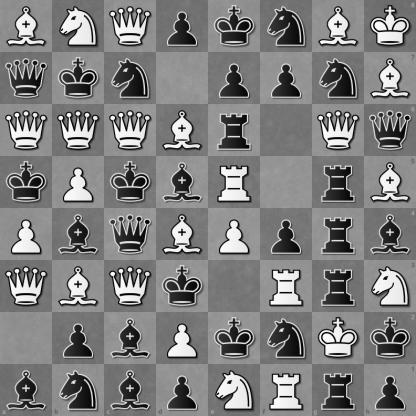B: (364, 156, 416, 209), (364, 52, 416, 104), (1, 1, 52, 52), (53, 261, 104, 312), (157, 105, 208, 156), (157, 209, 208, 260), (313, 1, 364, 52)
K: (364, 0, 416, 52), (313, 313, 364, 364)
N: (364, 260, 416, 312), (209, 364, 260, 416), (53, 1, 104, 52)
P: (1, 209, 52, 260), (53, 157, 104, 208), (157, 313, 208, 364), (209, 209, 260, 260)
Q: (1, 105, 52, 156), (1, 261, 52, 312), (53, 105, 104, 156), (105, 1, 156, 52), (105, 105, 156, 156), (105, 261, 156, 312), (313, 105, 364, 156)
R: (260, 364, 312, 416), (209, 157, 260, 208), (261, 261, 312, 312)
b: (0, 364, 52, 416), (104, 364, 156, 416), (364, 209, 416, 260), (53, 209, 104, 260), (105, 313, 156, 364), (157, 157, 208, 208)
board: (0, 0, 415, 415)
k: (364, 312, 416, 364), (1, 157, 52, 208), (53, 53, 104, 104), (105, 157, 156, 208), (157, 261, 208, 312), (209, 1, 260, 52), (209, 313, 260, 364)
n: (52, 364, 104, 416), (105, 53, 156, 104), (261, 1, 312, 52), (261, 313, 312, 364), (313, 53, 364, 104)
p: (156, 364, 209, 416), (364, 364, 416, 416), (53, 313, 104, 364), (157, 1, 208, 52), (209, 53, 260, 104), (261, 53, 312, 104), (261, 209, 312, 260)
q: (364, 104, 416, 156), (1, 53, 52, 104), (105, 209, 156, 260)
r: (312, 364, 364, 416), (209, 105, 260, 156), (313, 157, 364, 208), (313, 209, 364, 260), (313, 261, 364, 312)
